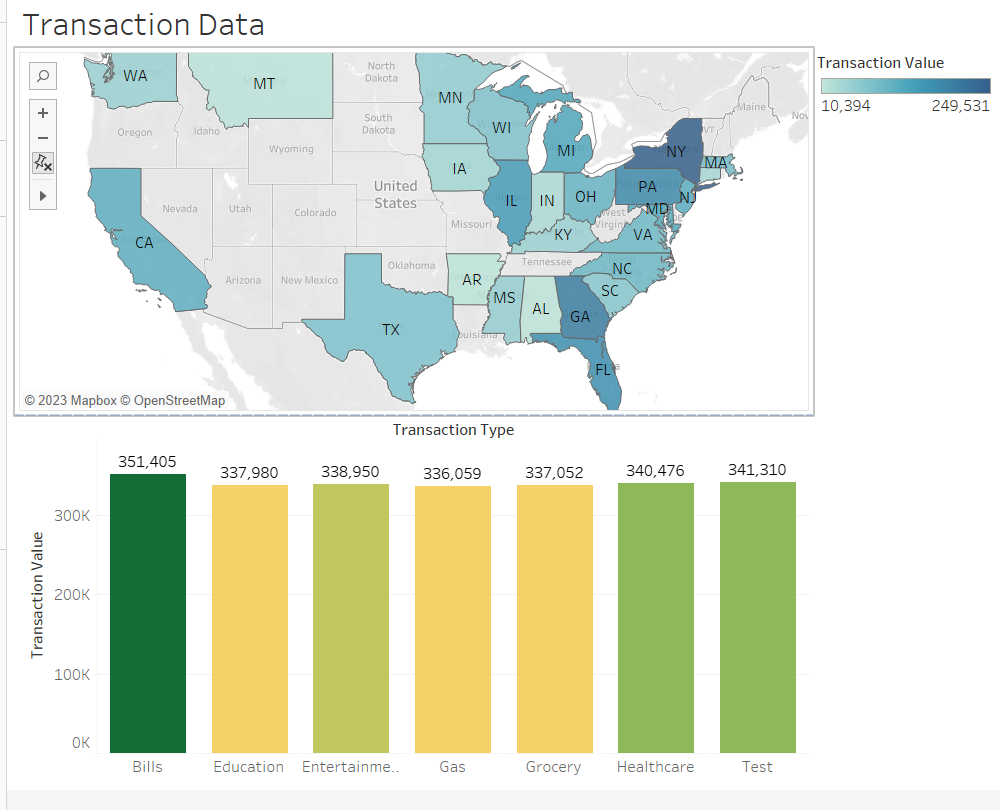

The dashboard page shown, as its layout file describes it:
{"tool":"tableau","page":{"name":"Dashboard 1","canvas":[1000,800],"ordinal":0},"visuals":[{"type":"title","box":[8,8,984,50]},{"type":"worksheet","title":"Trans_by_State","mark":"Automatic","box":[8,58,798,367]},{"type":"legend","title":"Trans_by_State","param":"[federated.0d4q3fh0azxhbo1fgwaat0go09u5].[sum:TRANSACTION_VALUE:qk]","box":[806,58,186,73]},{"type":"worksheet","title":"Trans_by_Type","mark":"Automatic","rows":["TRANSACTION_VALUE"],"cols":["TRANSACTION_TYPE"],"box":[8,425,798,367]}]}

Visuals, with their boxes in screenshot pixels (x1, y1, x2, y2), scaled from the page's 1000x800 canvas onto the 1000x810 screenshot:
title: bbox(8, 8, 992, 59)
"Trans_by_State" worksheet: bbox(8, 59, 806, 430)
"Trans_by_State" legend: bbox(806, 59, 992, 133)
"Trans_by_Type" worksheet: bbox(8, 430, 806, 802)
